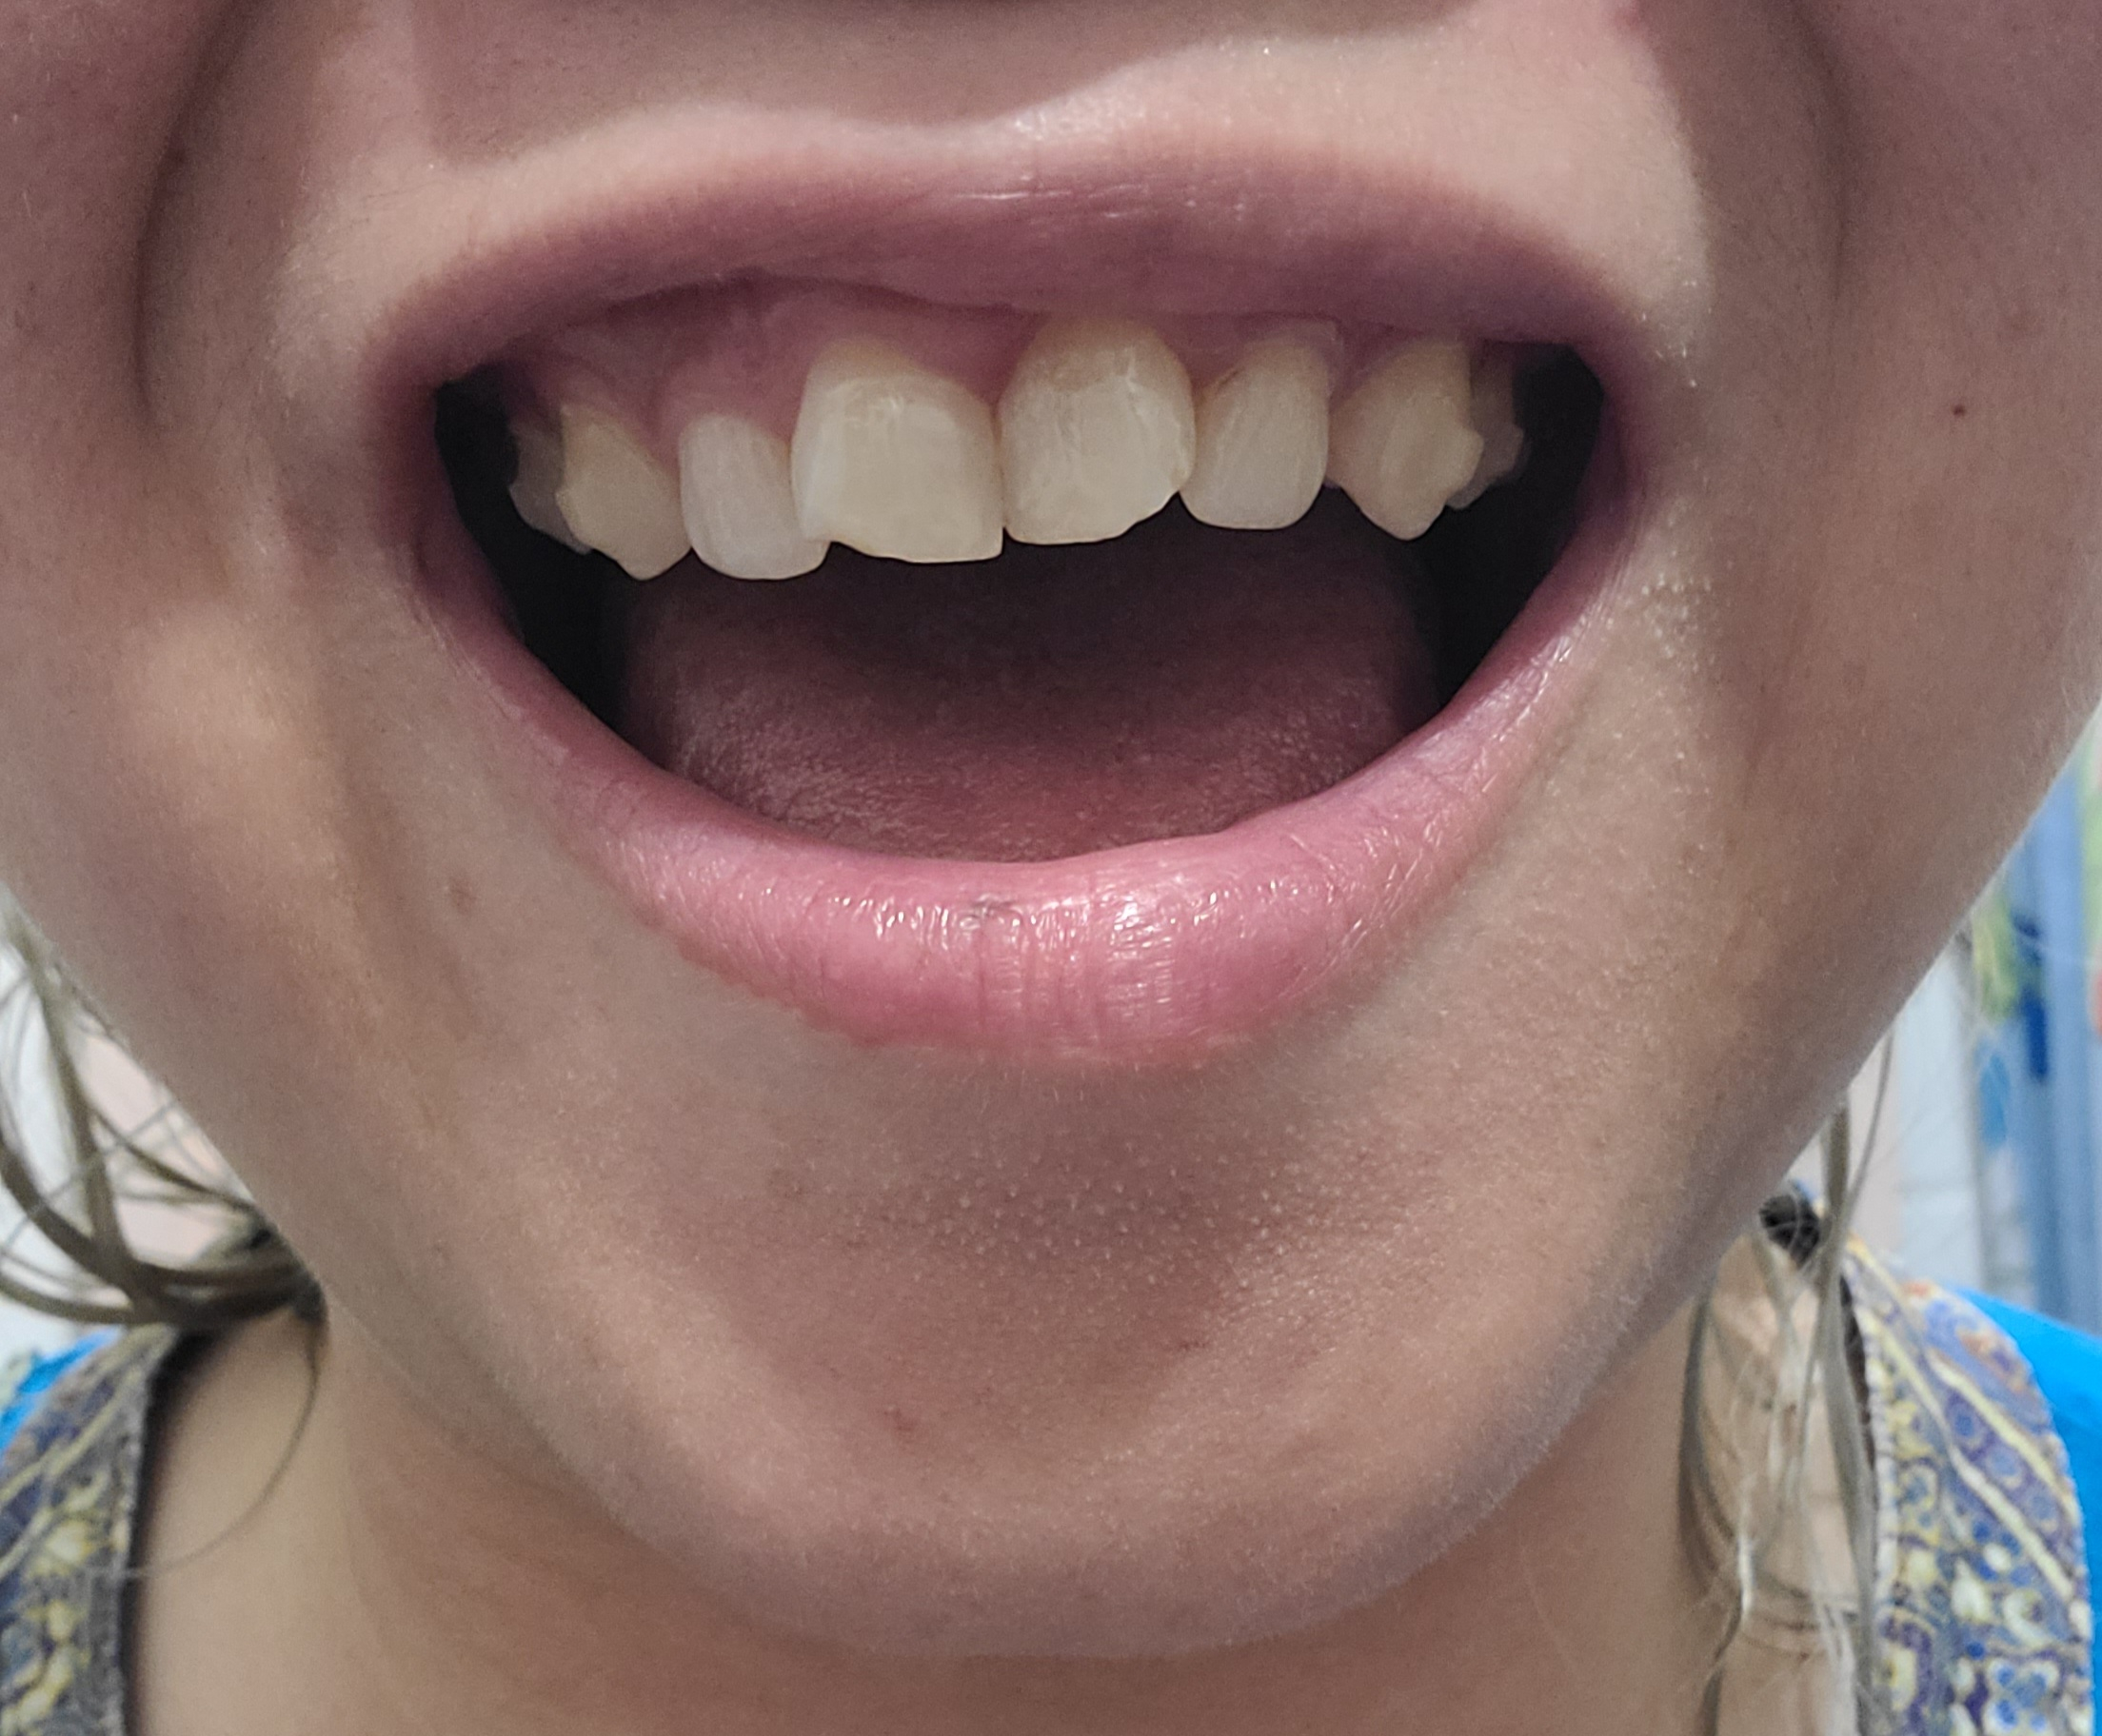teeth: (789, 337, 1000, 560), (997, 316, 1196, 539), (1185, 344, 1336, 525), (1337, 337, 1473, 536), (677, 415, 819, 579), (559, 398, 679, 574), (505, 420, 580, 550), (1465, 351, 1517, 506)
